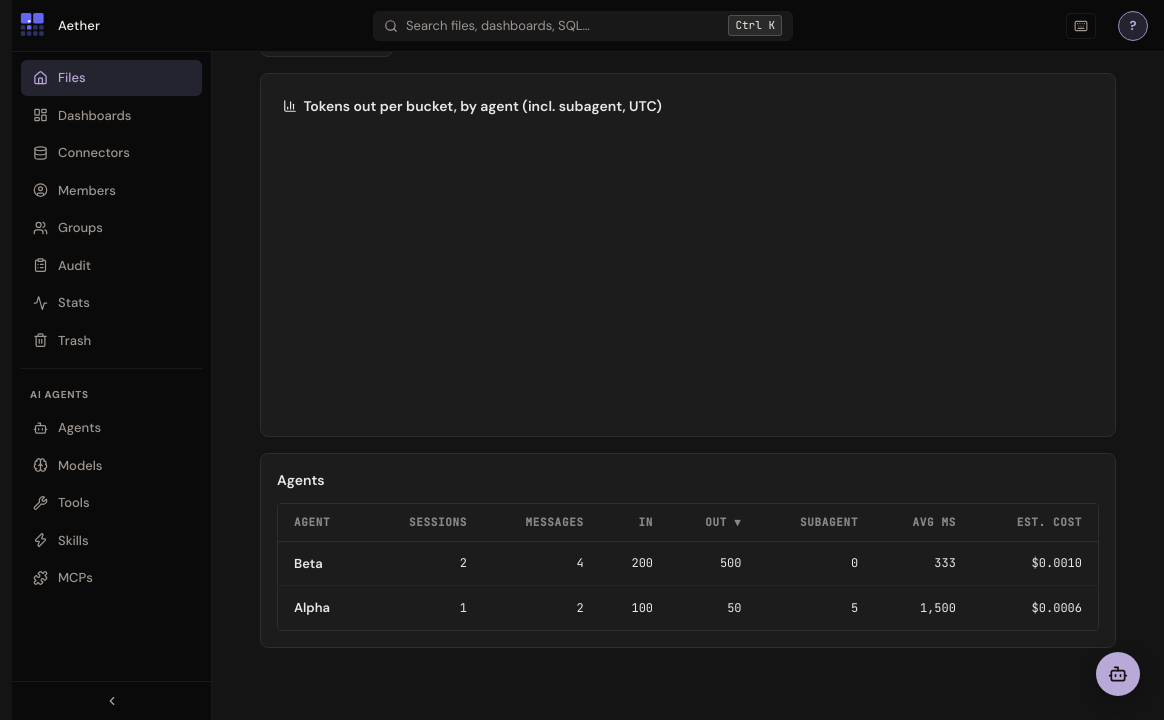
StatsPage › row click drills into the agent filter
(page scrolled)
Click the text "Beta".
click(322, 563)  # box [278,541,366,586]
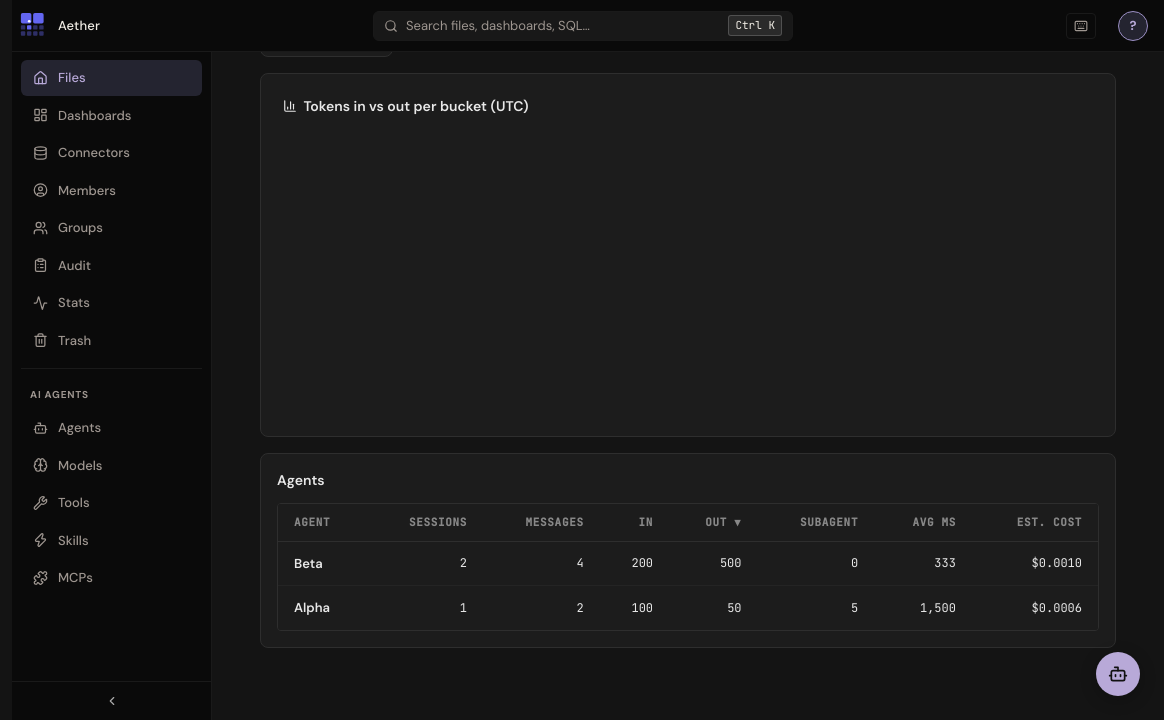
Expected: the text "Tokens in vs out per bucket (UTC)" is shown, [283,97,529,115]
